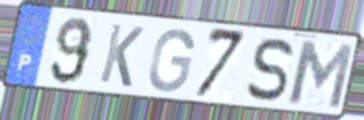7: (191, 25, 249, 101)
9: (48, 15, 94, 87)
G: (146, 26, 196, 94)
K: (97, 21, 147, 90)
M: (287, 37, 356, 111)
S: (244, 36, 296, 104)
